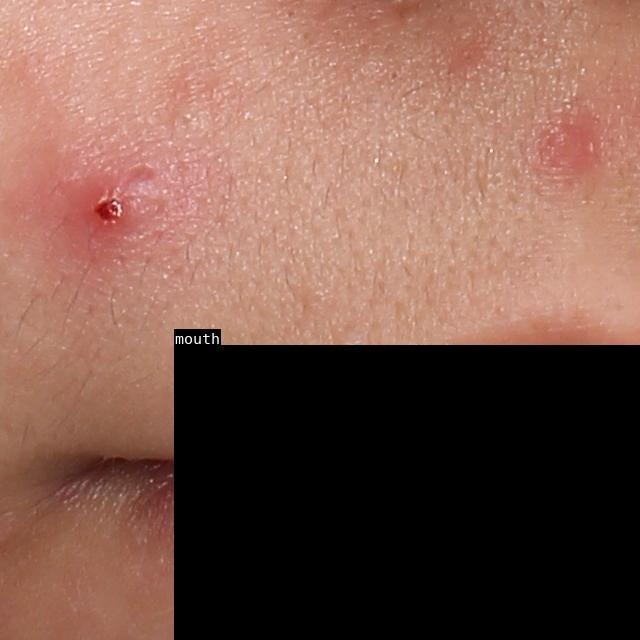papule: (69, 163, 156, 240), (542, 118, 595, 172)
